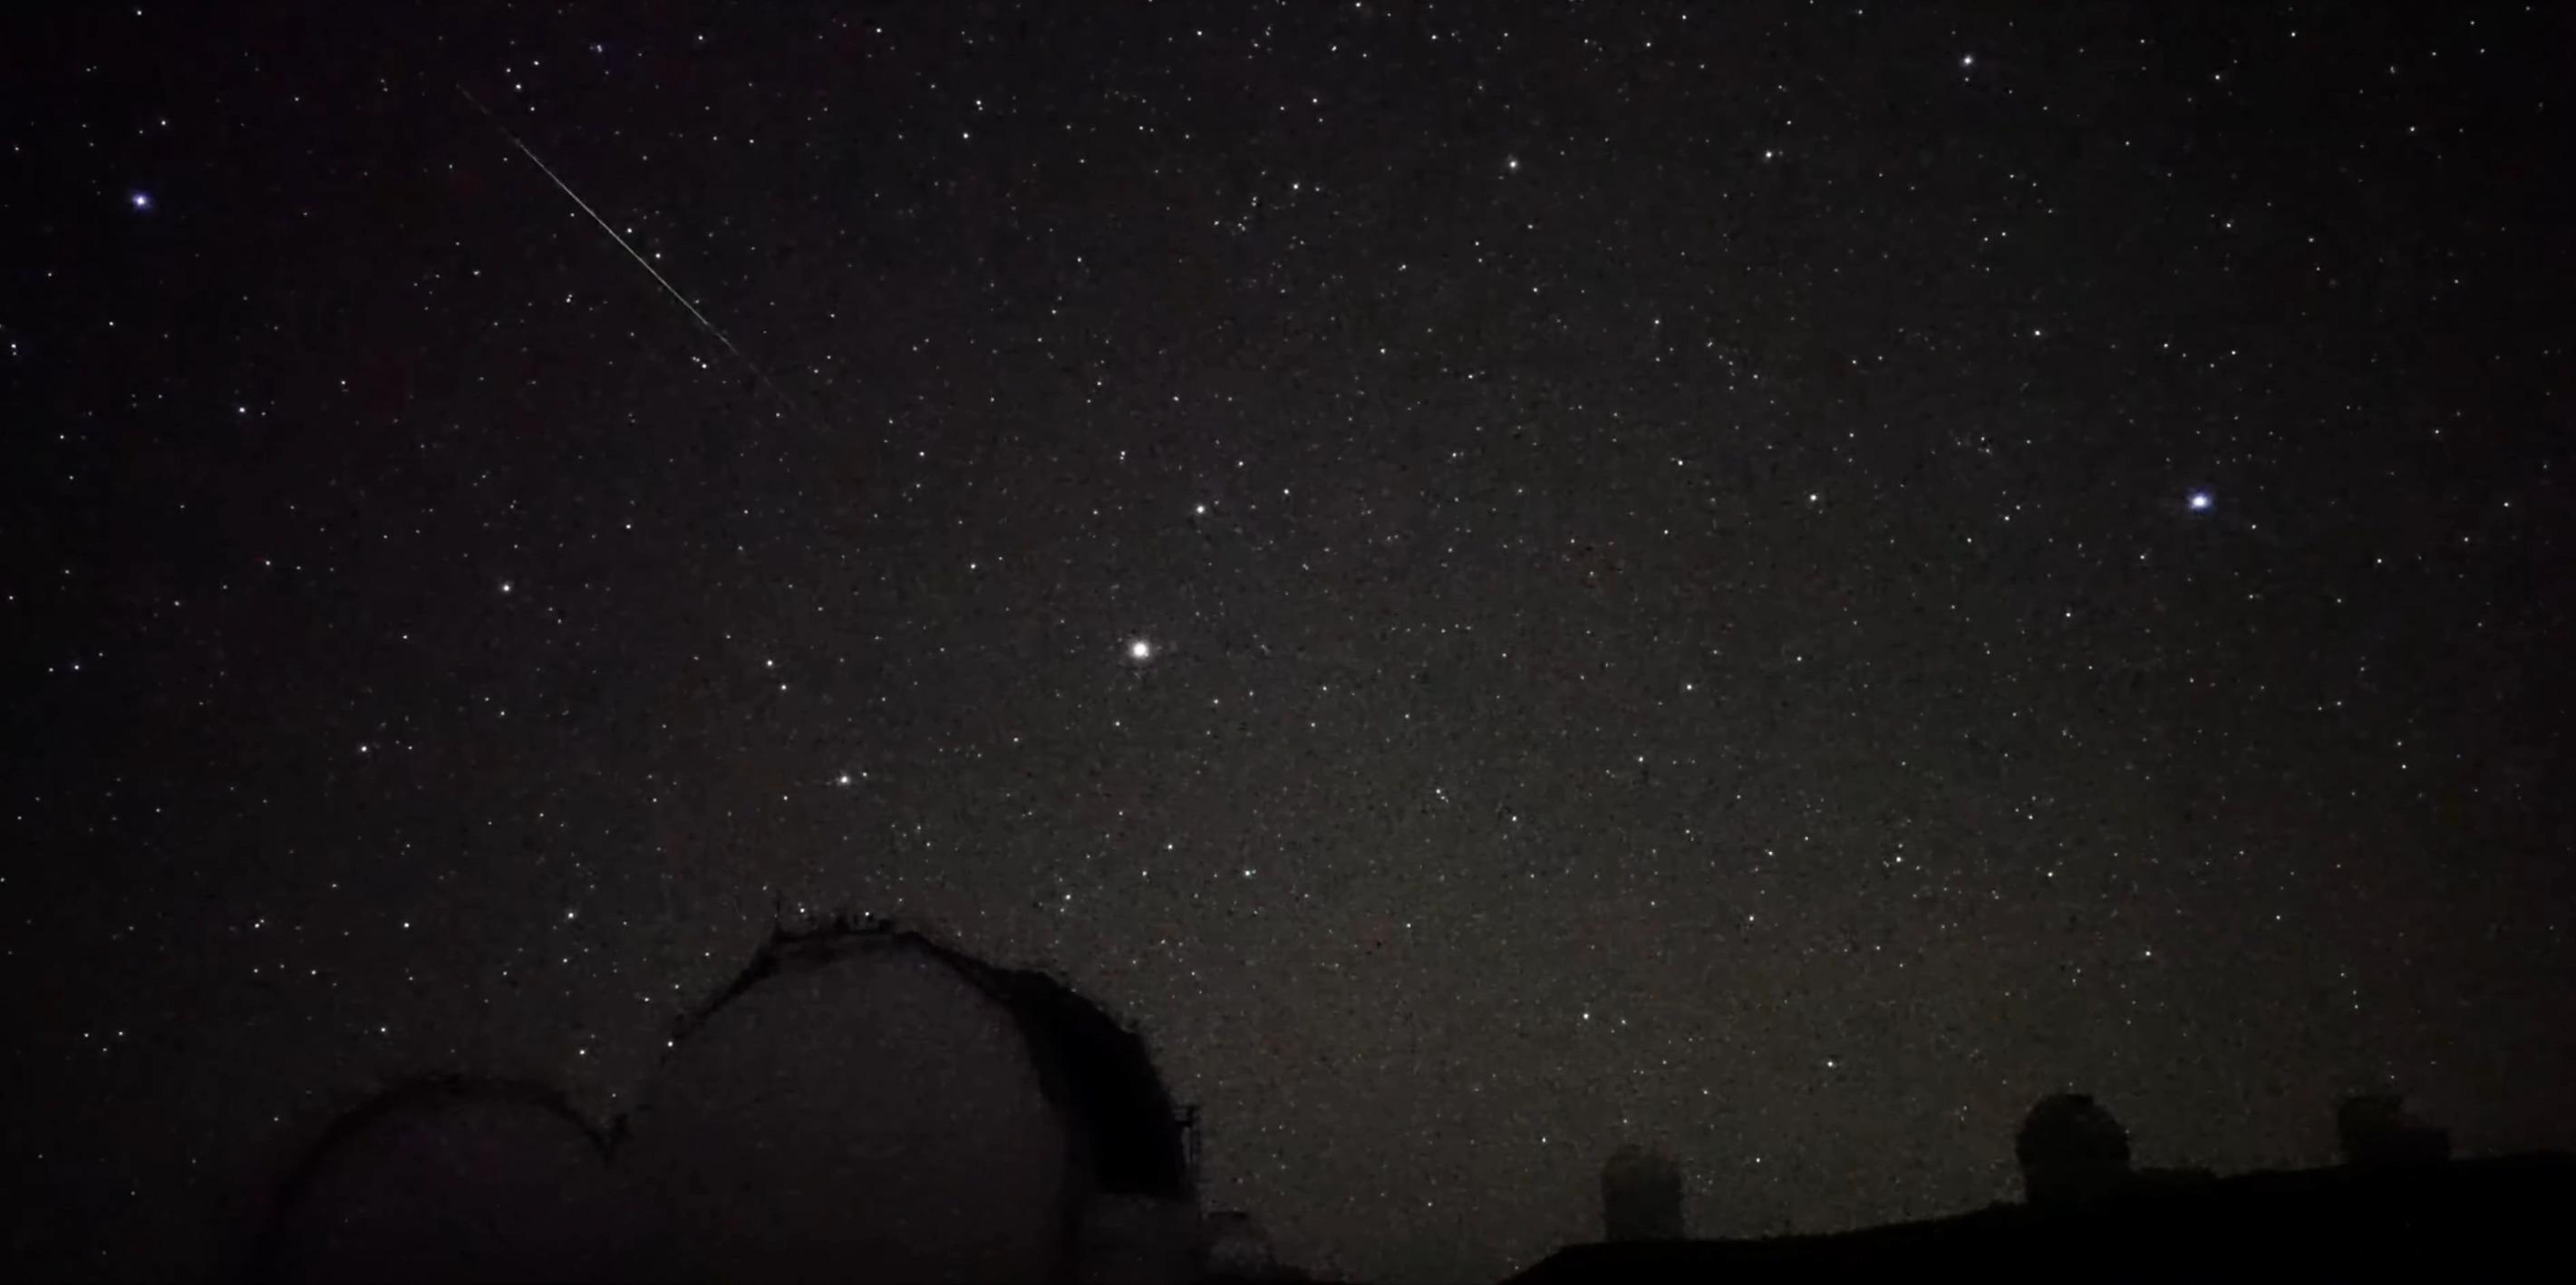meteorite: (509, 141, 733, 334)
